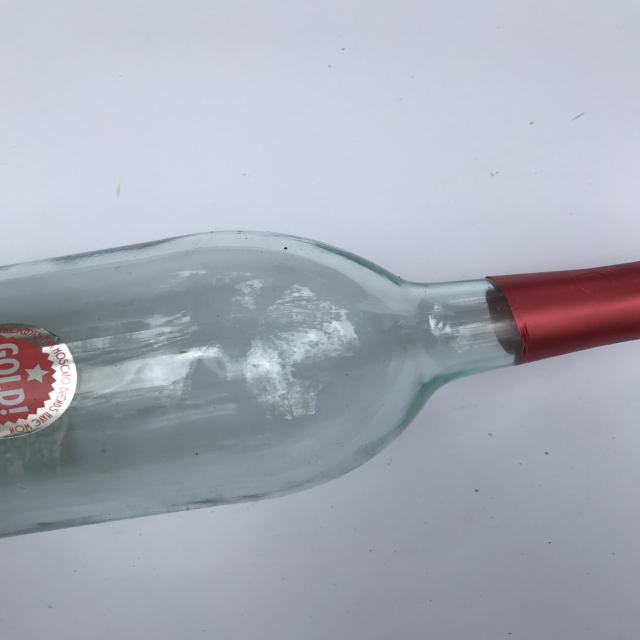glass: (0, 228, 640, 542)
